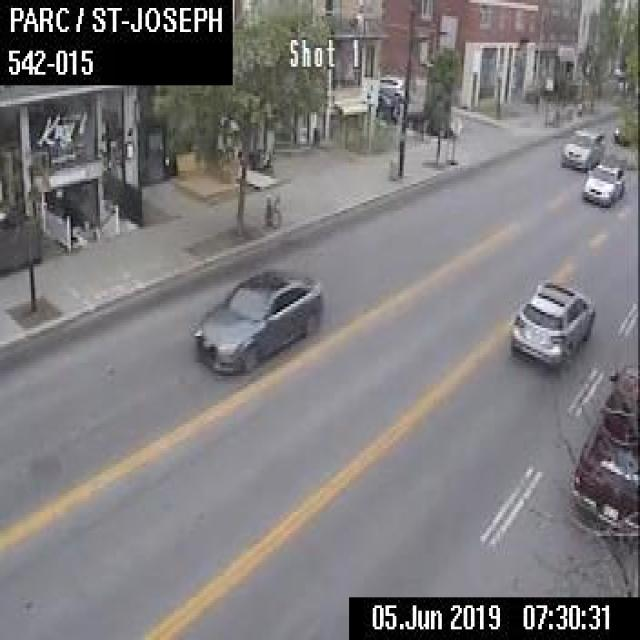vehicle: (189, 264, 324, 379), (566, 360, 638, 549), (507, 275, 595, 368), (557, 124, 603, 170), (581, 161, 624, 205), (405, 105, 461, 137), (377, 72, 404, 101), (376, 86, 398, 120), (611, 123, 630, 145)
